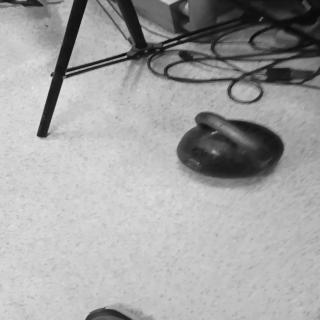girya: (180, 112, 285, 180)
